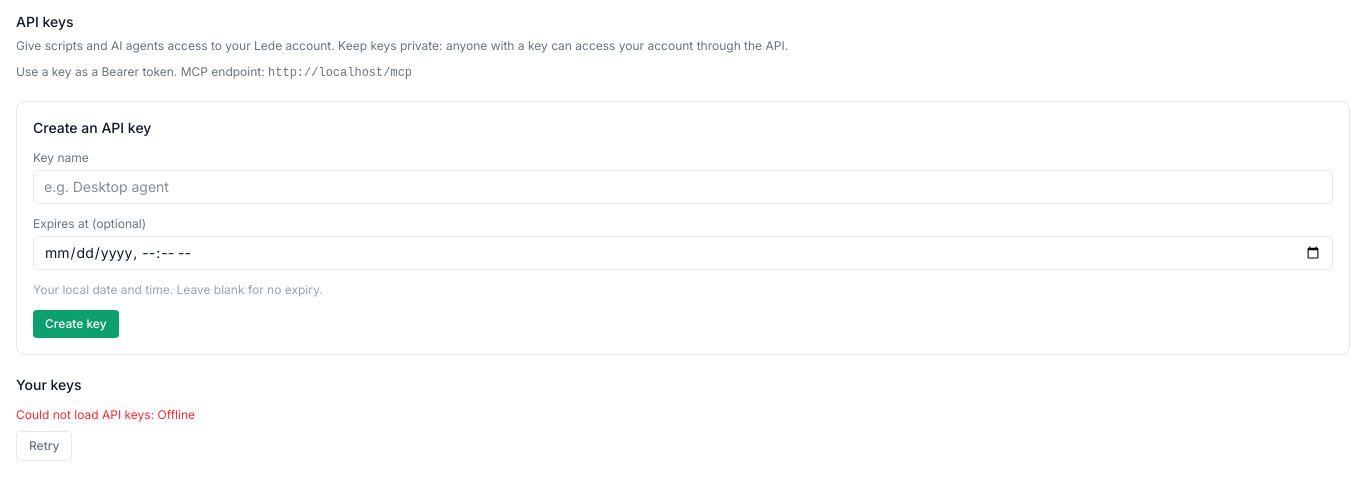
Test case: ApiKeysSection › retries a failed list request without showing an empty success state
Expected: the message shows "Could not load API keys: Offline", [16, 407, 195, 461]
Expected: the text "No API keys yet." is not shown
Click the button "Retry" at (44, 446), box [16, 431, 72, 461]
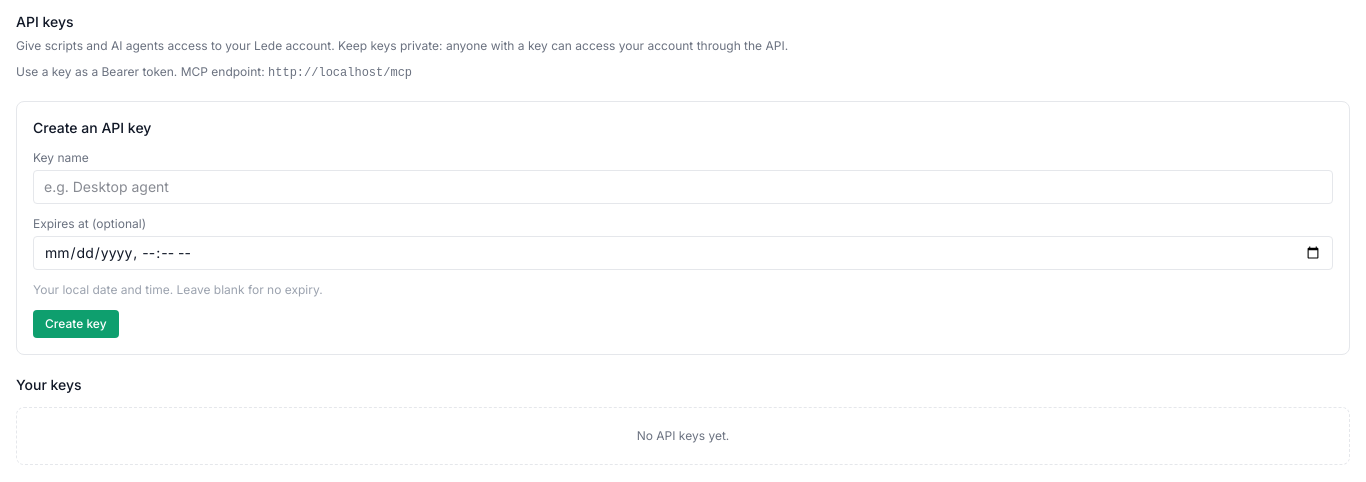
Expected: the text "No API keys yet." is shown, [16, 407, 1350, 465]
